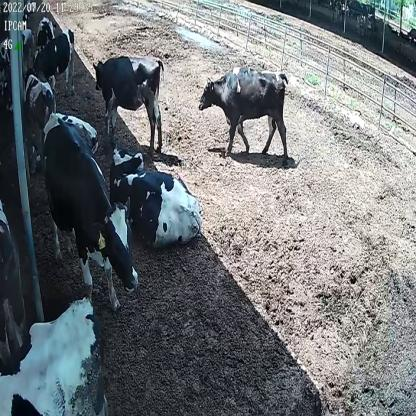cow: (38, 113, 140, 307), (107, 146, 204, 248), (197, 64, 291, 166), (89, 50, 163, 150), (32, 28, 76, 96), (35, 14, 57, 57)
